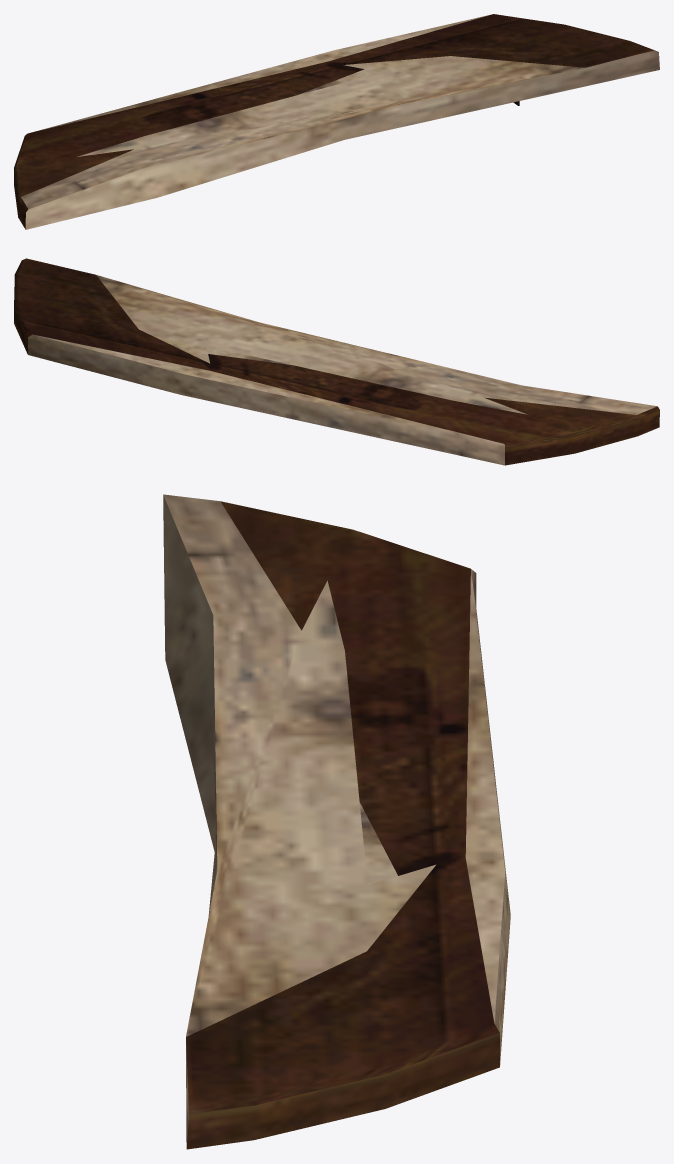
File: table1_gib3.glb
3 renders of one model, top to bottom at view 1: azimuth 30°, elevation 25°; view 2: azimuth 150°, elevation 25°; view 3: azimuth 270°, elevation 25°, orthographic. The views are drawn at different scales.
Visible parts, largest first — view 1: table1_gib3; view 2: table1_gib3; view 3: table1_gib3.
Part boxes in pixels (left/top/right/bottom): table1_gib3: left=14, top=14, right=659, bottom=229; table1_gib3: left=14, top=258, right=659, bottom=465; table1_gib3: left=163, top=494, right=510, bottom=1149.
Size of the model in its own units: 0.8752 by 0.0417 by 0.2084.
Materials: 1 (1 with a texture image).
